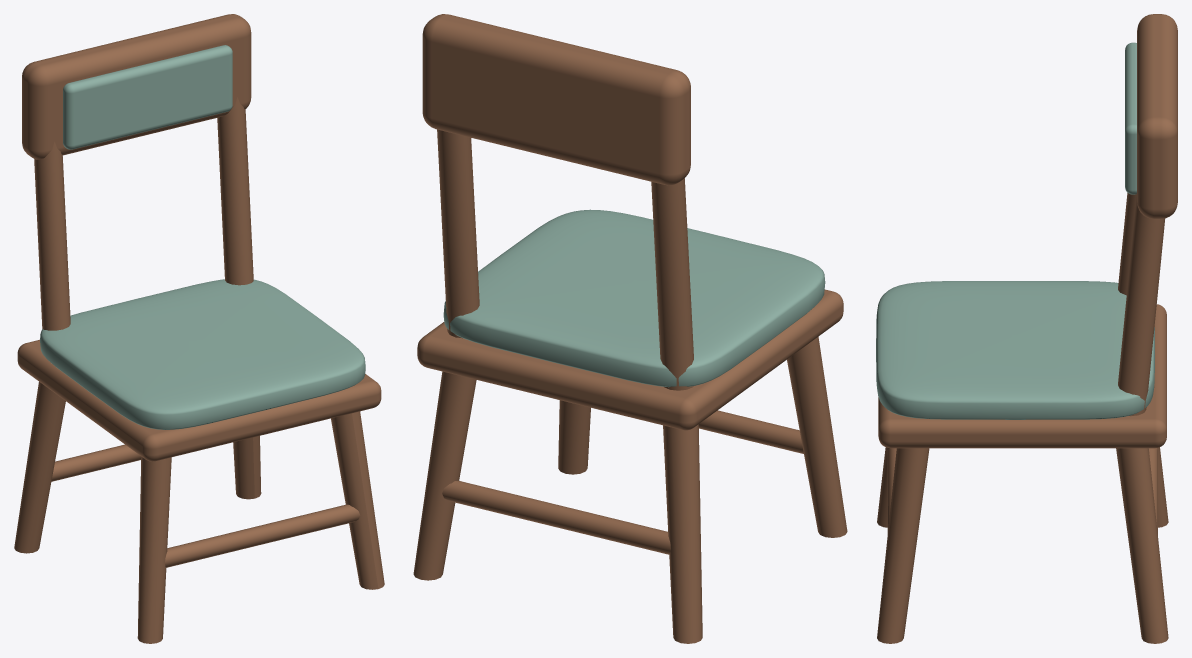
Rendered from chair.glb.
The picture shows the model from 3 angles, left to right: view 1: azimuth 30°, elevation 25°; view 2: azimuth 150°, elevation 25°; view 3: azimuth 270°, elevation 25°; orthographic projection. The views are drawn at different scales.
Visible parts, largest first — view 1: seat-cushion-1, back-pad, framed-back, underframe, chair-leg--1-1, back-post--1, back-post-1, chair-leg-1-1, chair-leg--1--1, stretcher-1, stretcher--1, chair-leg-1--1; view 2: seat-cushion-1, framed-back, underframe, chair-leg--1--1, back-post--1, chair-leg-1--1, back-post-1, chair-leg--1-1, stretcher--1, stretcher-1, chair-leg-1-1; view 3: seat-cushion-1, underframe, framed-back, chair-leg-1--1, chair-leg-1-1, back-post-1, back-pad, back-post--1, chair-leg--1-1, chair-leg--1--1, stretcher-1, stretcher--1.
Boxes of the visible parts, bbox=[...] form: seat-cushion-1: bbox=[40, 279, 365, 429]; back-pad: bbox=[63, 45, 232, 149]; framed-back: bbox=[22, 14, 251, 159]; underframe: bbox=[17, 339, 381, 461]; chair-leg--1-1: bbox=[137, 456, 171, 643]; back-post--1: bbox=[34, 141, 70, 330]; back-post-1: bbox=[217, 97, 253, 285]; chair-leg-1-1: bbox=[331, 411, 384, 589]; chair-leg--1--1: bbox=[14, 382, 65, 553]; stretcher-1: bbox=[165, 504, 360, 567]; stretcher--1: bbox=[51, 444, 141, 481]; chair-leg-1--1: bbox=[233, 436, 261, 499]; seat-cushion-1: bbox=[443, 209, 825, 387]; framed-back: bbox=[422, 14, 690, 185]; underframe: bbox=[417, 289, 843, 430]; chair-leg--1--1: bbox=[663, 424, 702, 643]; back-post--1: bbox=[651, 178, 693, 390]; chair-leg-1--1: bbox=[413, 371, 476, 580]; back-post-1: bbox=[437, 129, 479, 338]; chair-leg--1-1: bbox=[787, 336, 847, 537]; stretcher--1: bbox=[442, 480, 670, 554]; stretcher-1: bbox=[698, 410, 803, 453]; chair-leg-1-1: bbox=[558, 400, 590, 474]; seat-cushion-1: bbox=[876, 281, 1154, 419]; underframe: bbox=[878, 304, 1166, 448]; framed-back: bbox=[1137, 14, 1177, 218]; chair-leg-1--1: bbox=[1116, 448, 1168, 643]; chair-leg-1-1: bbox=[877, 448, 929, 643]; back-post-1: bbox=[1118, 193, 1165, 416]; back-pad: bbox=[1125, 42, 1136, 194]; back-post--1: bbox=[1118, 193, 1136, 295]; chair-leg--1-1: bbox=[877, 447, 888, 527]; chair-leg--1--1: bbox=[1157, 447, 1168, 527]; stretcher-1: bbox=[887, 448, 896, 533]; stretcher--1: bbox=[1149, 448, 1157, 534].
Bounding box in the file's own units: 0.626 × 1.18 × 0.6275.
